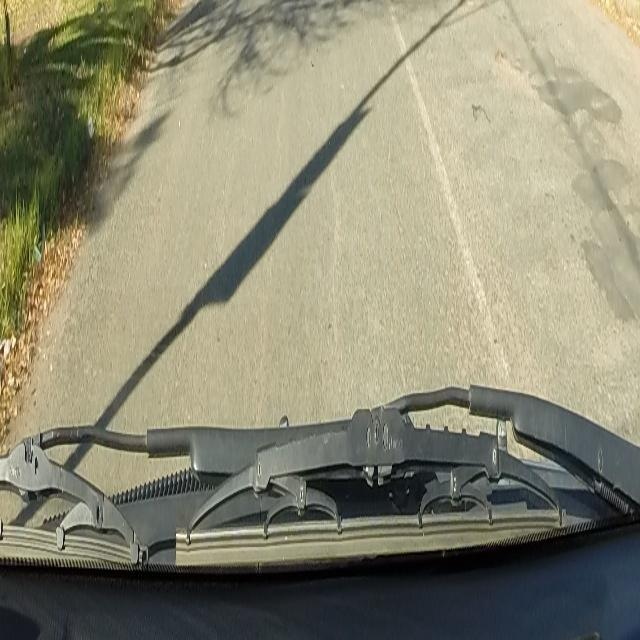pothole: (494, 42, 511, 72)
